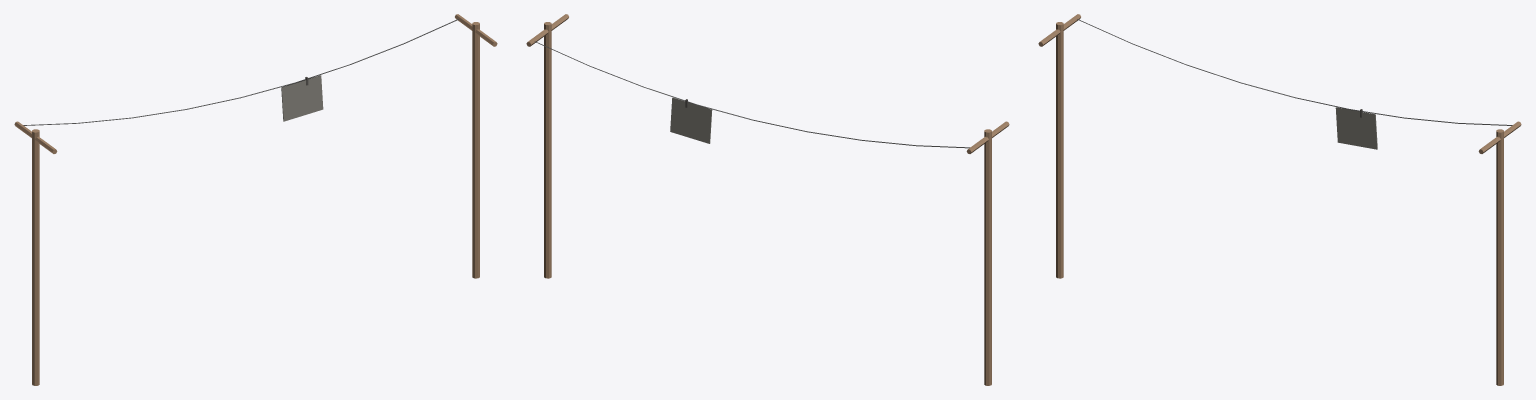
Rendered from clothes_line_bare.glb.
3 views of the same model, side by side, from view 1: azimuth 30°, elevation 25°; view 2: azimuth 150°, elevation 25°; view 3: azimuth 330°, elevation 25° (orthographic).
Visible parts, largest first — view 1: static; view 2: static; view 3: static.
Boxes of the visible parts, x1,y1,x2,y2 form: static: (14,14,497,385); static: (526,14,1009,385); static: (1038,14,1521,385).
Bounding box in the file's own units: 4.06 × 2.2 × 0.6.
